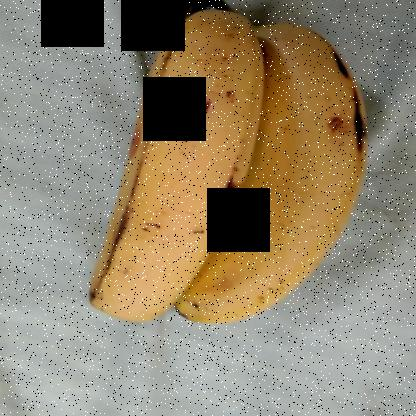ripe: (87, 14, 268, 323), (239, 36, 376, 329)
